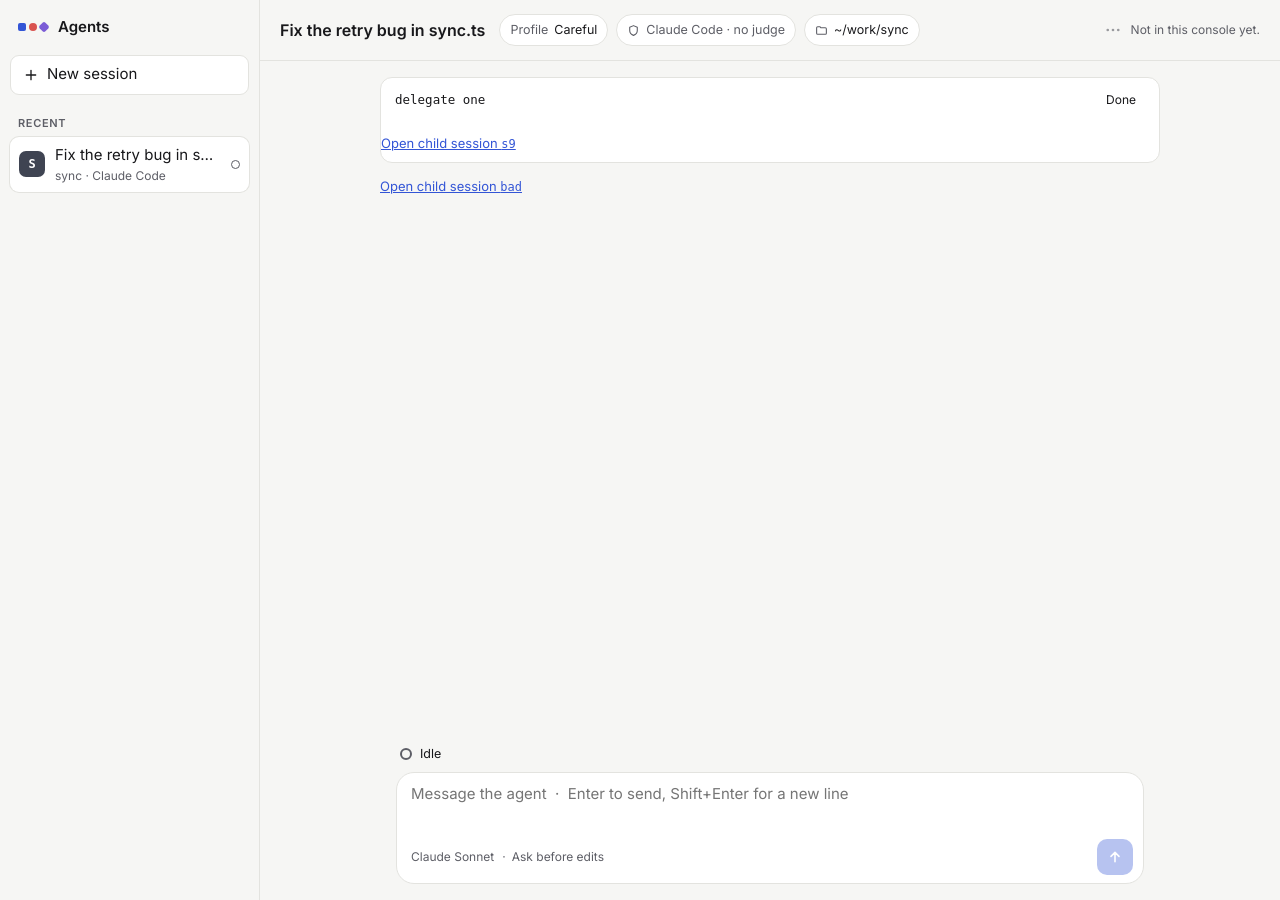
Scenario: S134-5 AC2 activating the link › ac2_a_refused_child_shows_the_ordinary_error_and_keeps_the_open_session
Click the button "Open child session bad".
click(451, 187)  # box [380,169,522,205]
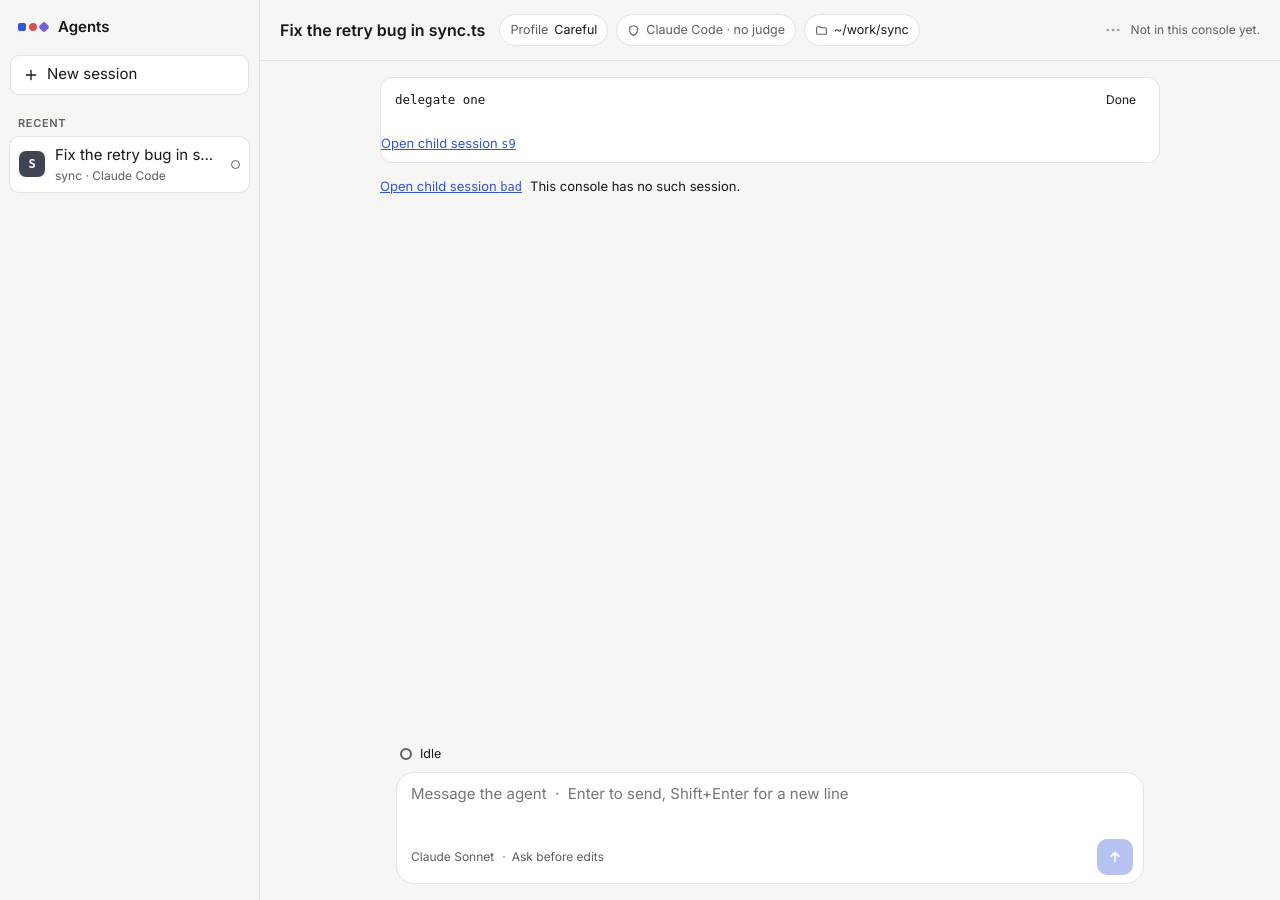
Expected: the heading "Fix the retry bug in sync.ts" is shown, [280,18,485,42]
Expected: the message "This console has no such session." is shown, [530,178,740,194]
